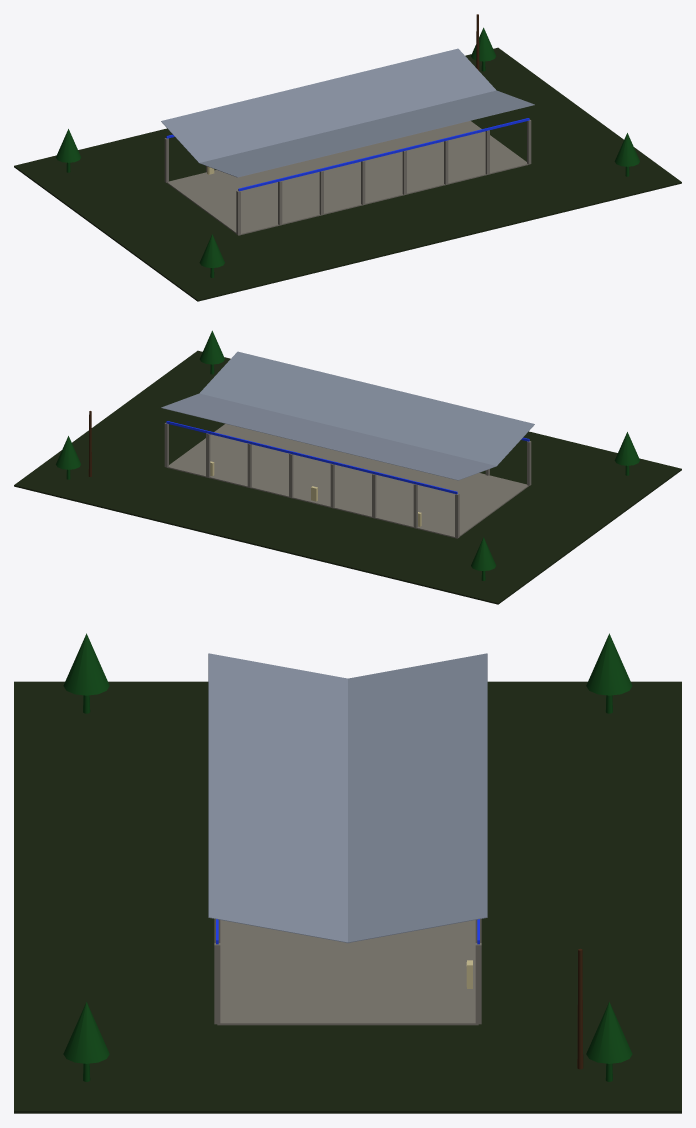
File: galpao.obj
3 views of the same model, one above another, from view 1: azimuth 30°, elevation 25°; view 2: azimuth 150°, elevation 25°; view 3: azimuth 270°, elevation 25° (orthographic). The views are drawn at different scales.
Visible parts, largest first — view 1: chao, telhado, laje, arvore.004, arvore.001, arvore.003, arvore.002; view 2: chao, telhado, laje, arvore.002, arvore.003, arvore.004, arvore.001; view 3: chao, telhado, laje, arvore.001, arvore.003, arvore.002, arvore.004.
Boxes of the visible parts, <box> form: chao: <box>14,47,681,301</box>; telhado: <box>161,48,534,177</box>; laje: <box>167,121,528,235</box>; arvore.004: <box>614,133,639,176</box>; arvore.001: <box>56,129,81,172</box>; arvore.003: <box>199,234,224,277</box>; arvore.002: <box>471,27,496,71</box>; chao: <box>14,350,681,604</box>; telhado: <box>161,351,534,480</box>; laje: <box>167,424,528,538</box>; arvore.002: <box>56,436,81,479</box>; arvore.003: <box>614,432,639,475</box>; arvore.004: <box>199,330,224,374</box>; arvore.001: <box>471,537,496,580</box>; chao: <box>14,681,681,1113</box>; telhado: <box>208,653,487,943</box>; laje: <box>217,920,478,1025</box>; arvore.001: <box>586,633,632,713</box>; arvore.003: <box>63,633,109,713</box>; arvore.002: <box>586,1002,632,1081</box>; arvore.004: <box>63,1002,109,1081</box>.
Bounding box in the file's own units: 7000 × 920 × 4600.
